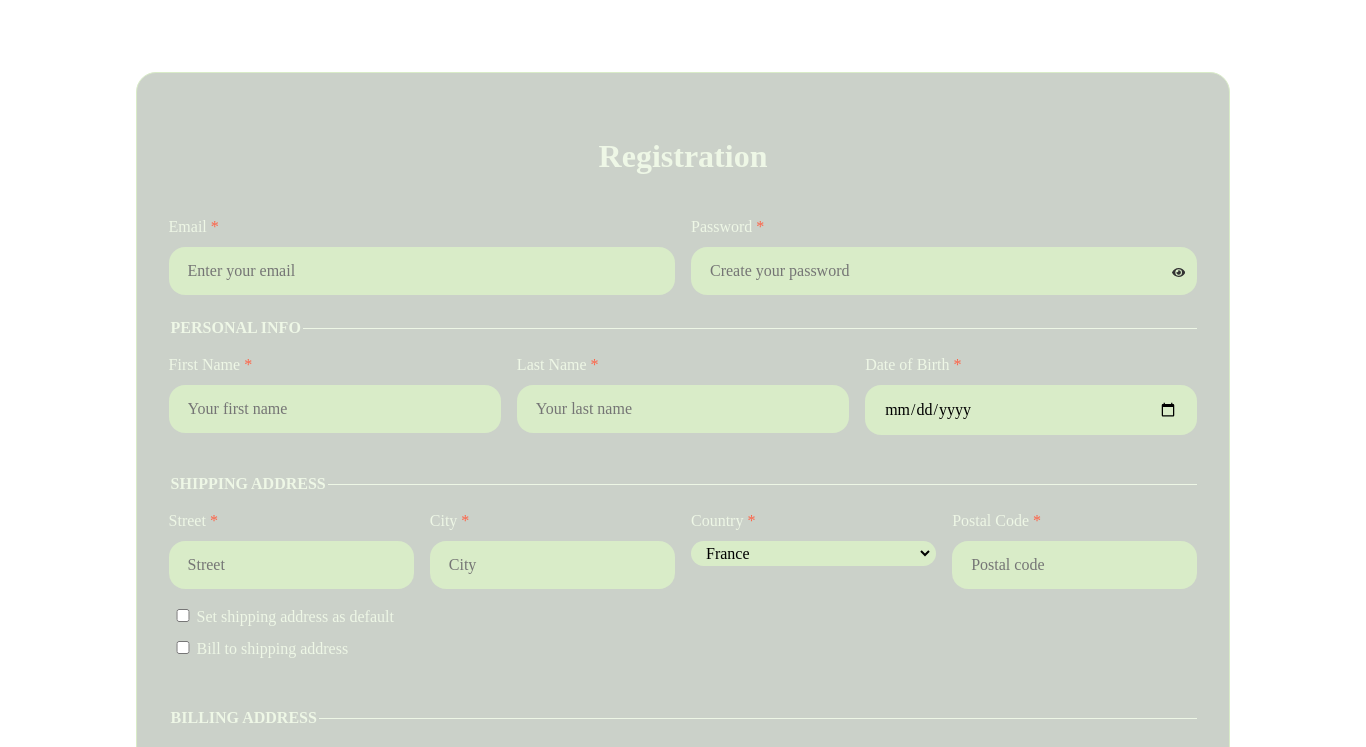
Test case: <RegistrationForm/> component › Render Registration Form component - Password Validation
Type "12QWq!" into the password field with placeholder "Create your password". click: (944,271)
box: [691, 247, 1197, 295]
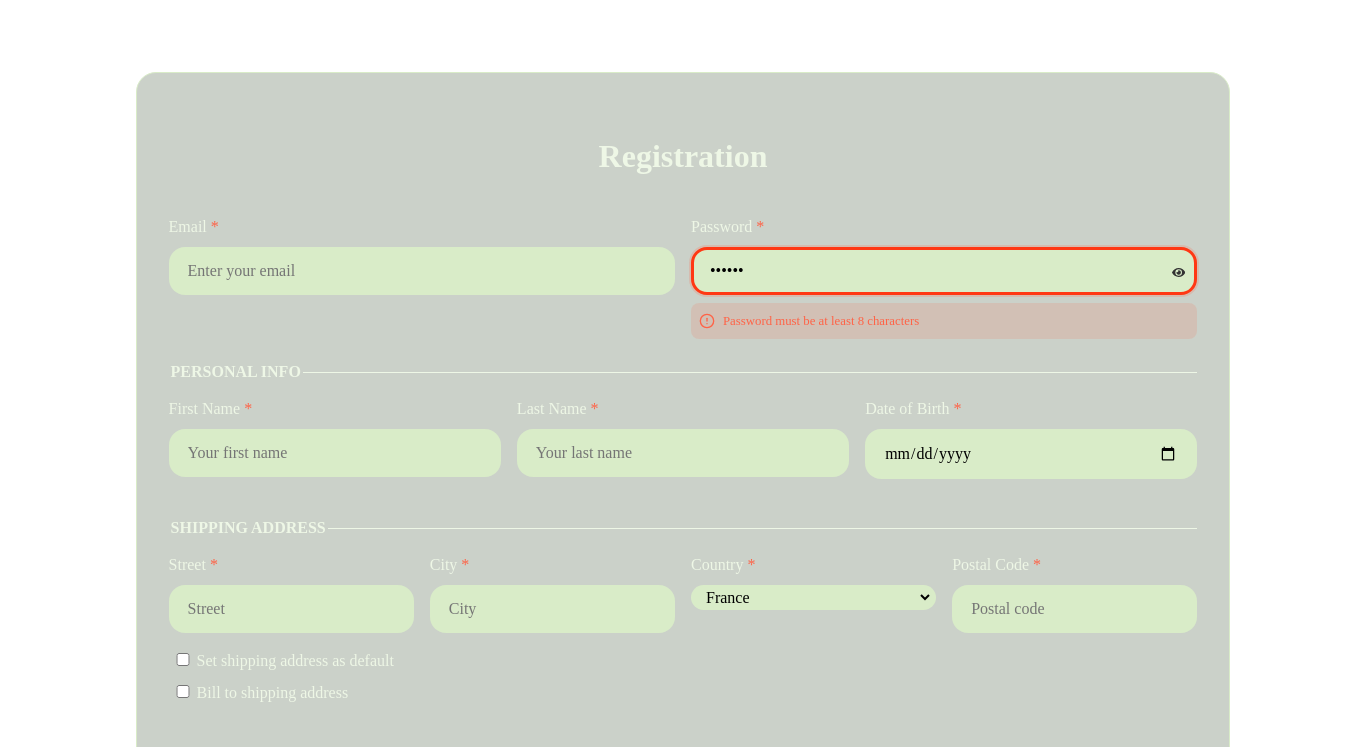
Check: the text "Password must be at least 8 characters" is shown, box [723, 314, 919, 329]
Check: the text with test id "error-input-password-test-id" reads "Password must be at least 8 characters", box [723, 314, 919, 328]
